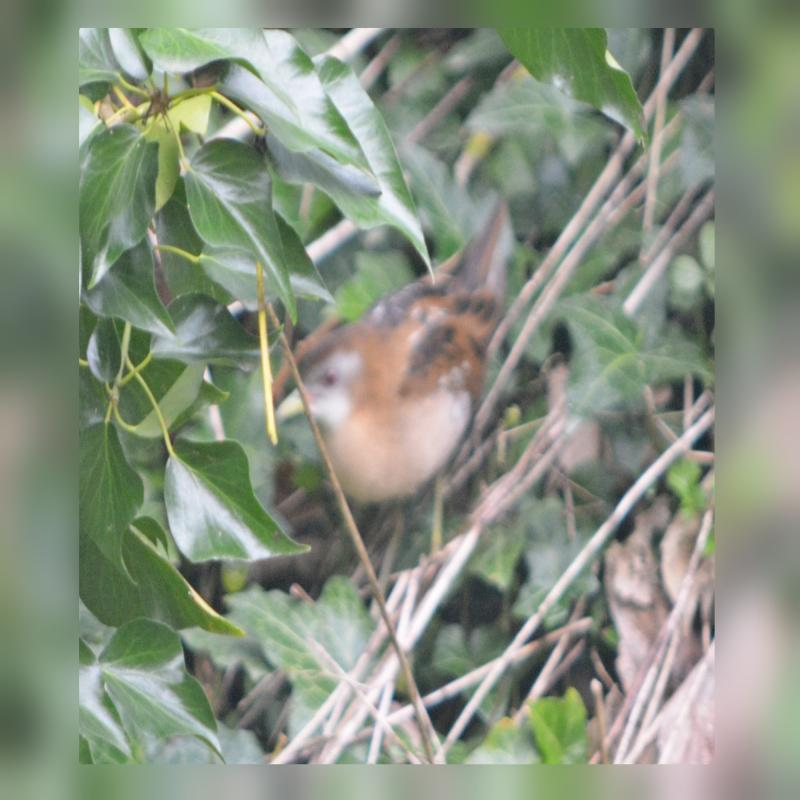little crake: (261, 200, 526, 524)
